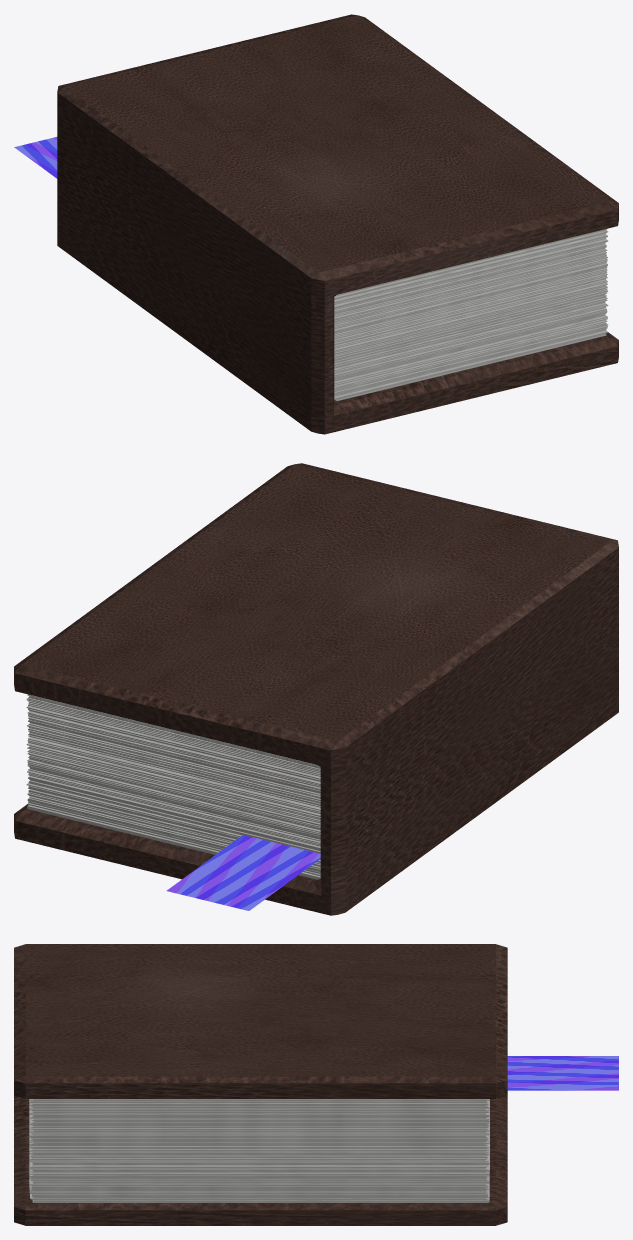
File: Book.glb
3 renders of one model, top to bottom at view 1: azimuth 30°, elevation 25°; view 2: azimuth 150°, elevation 25°; view 3: azimuth 270°, elevation 25°, orthographic. The views are drawn at different scales.
Visible parts, largest first — view 1: Cube, Plane, Plane.001; view 2: Cube, Plane, Plane.001; view 3: Cube, Plane, Plane.001.
Boxes of the visible parts, x1=… form: Cube: x1=57, y1=14, x2=618, y2=434; Plane: x1=334, y1=228, x2=608, y2=400; Plane.001: x1=14, y1=137, x2=57, y2=178; Cube: x1=14, y1=463, x2=618, y2=915; Plane: x1=26, y1=694, x2=320, y2=879; Plane.001: x1=166, y1=835, x2=320, y2=910; Cube: x1=14, y1=944, x2=507, y2=1225; Plane: x1=29, y1=1099, x2=489, y2=1202; Plane.001: x1=507, y1=1056, x2=618, y2=1090.
Bounding box in the file's own units: 0.4 × 0.2 × 0.7353.
Materials: 4 (4 with a texture image).
